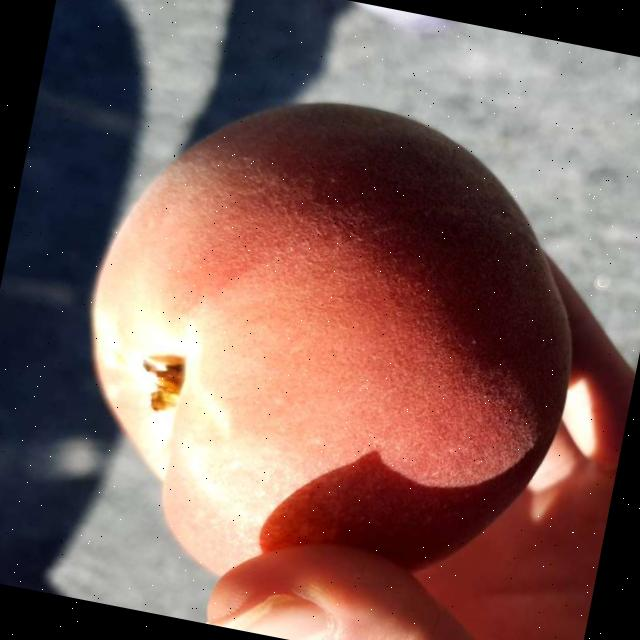peach: (93, 128, 580, 555)
